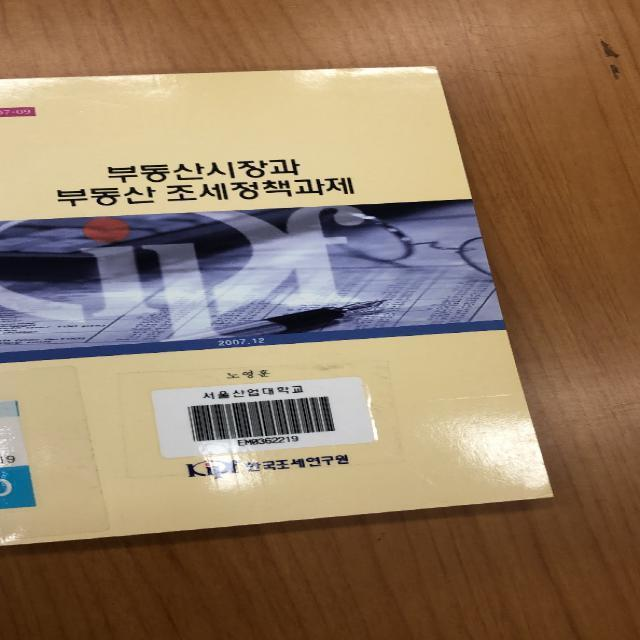Wornout: (404, 63, 442, 73)
